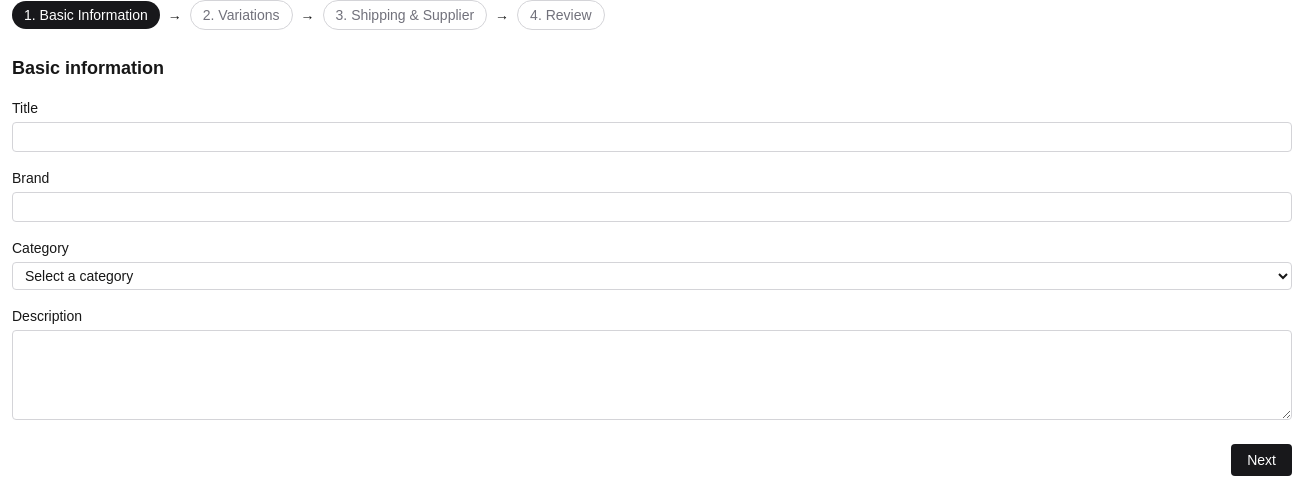
Test case: VariationsStep › rejects an SKU that doesn't match SKU-[A-Z]{3}-[0-9]{4}
Type "Wireless Mouse" into the field labelled "Title".
click(652, 137); type("Wireless Mouse")  # box [12,122,1292,152]
Type "Acme" into the field labelled "Brand".
click(652, 207); type("Acme")  # box [12,192,1292,222]
Select "Beauty" in the dropdown labelled "Category" at x=652, y=276, box [12,262,1292,290]
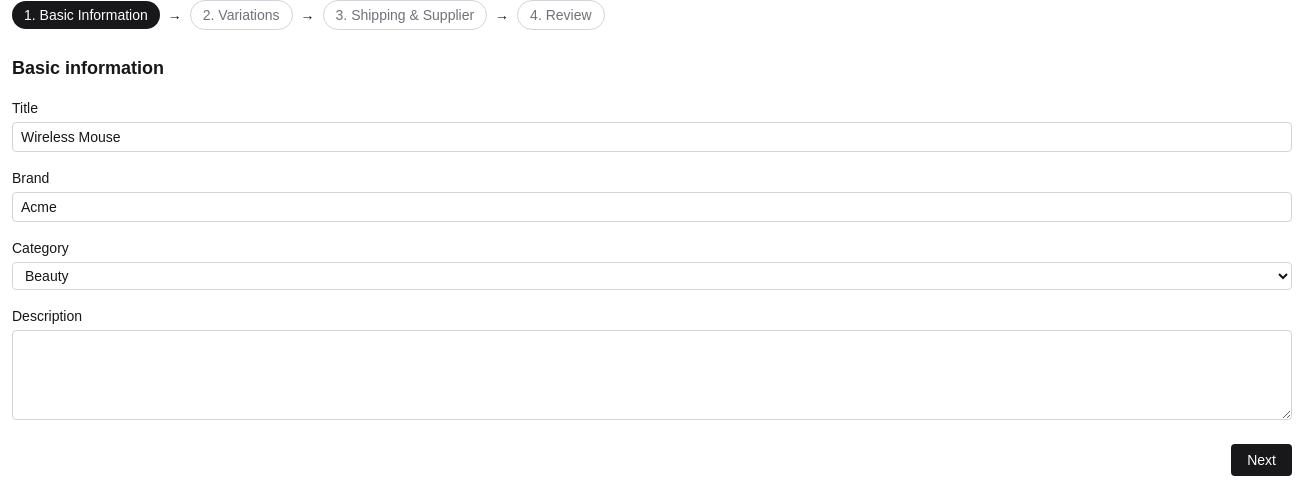
Type "A reliable wireless mouse with an ergonomic design and long battery life." into the text box labelled "Description".
click(652, 375); type("A reliable wireless mouse with an ergonomic design and long battery life.")  # box [12,330,1292,420]
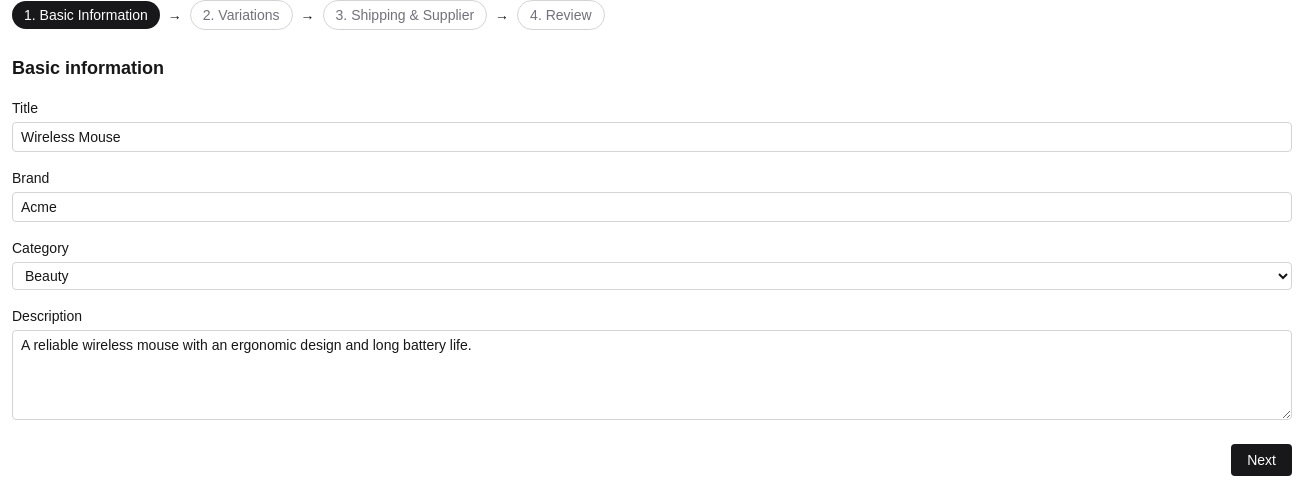
Click the button "Next".
click(1262, 460)  # box [1231,444,1292,476]
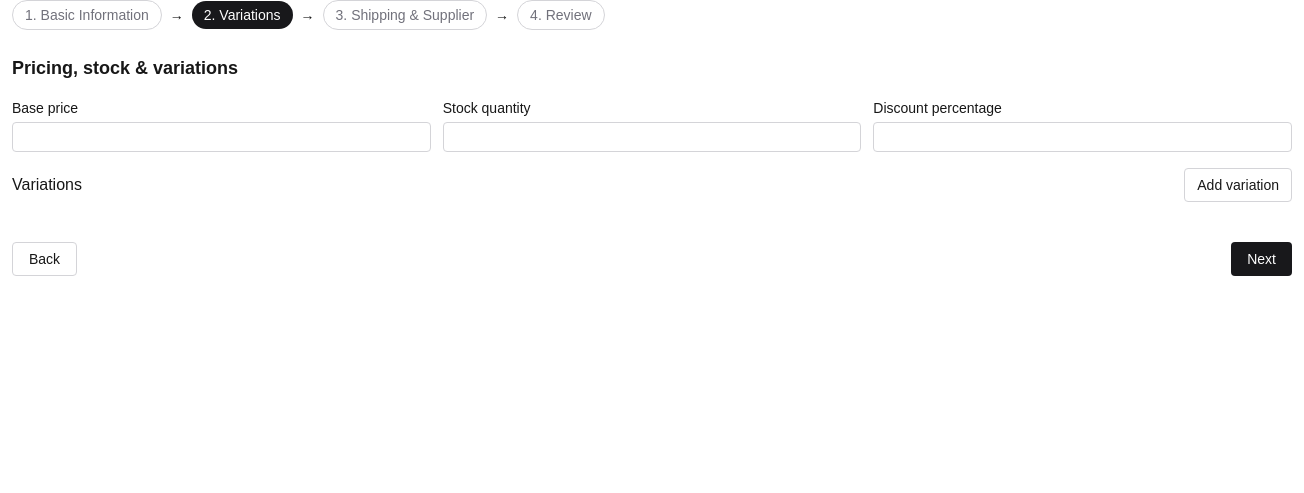
Now the heading "Pricing, stock & variations" is shown, box [12,58,238,78]
Click the button "Add variation".
click(1238, 185)  # box [1184,168,1292,202]
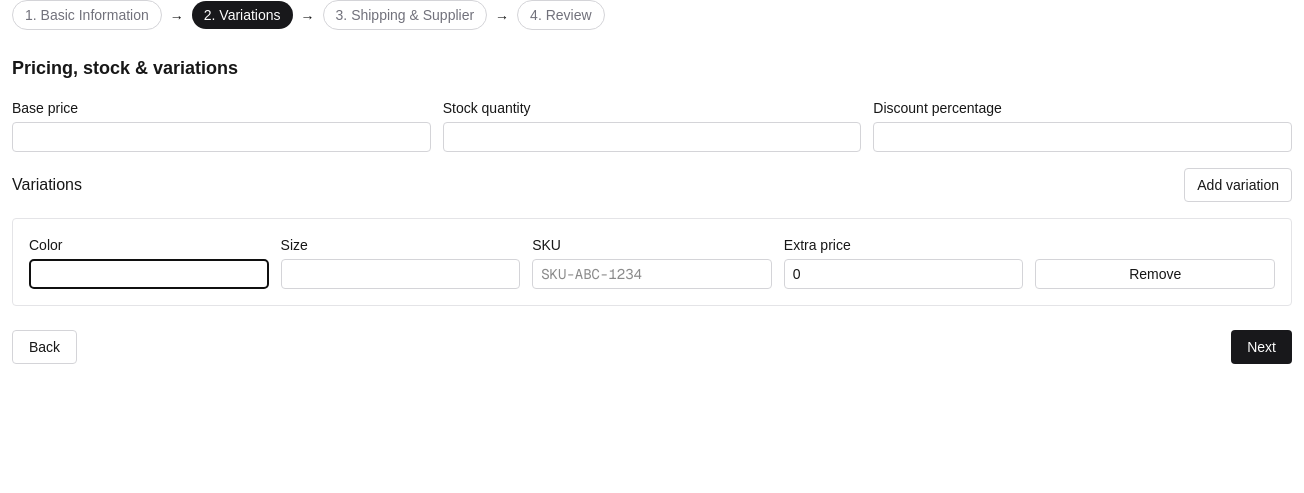
Type "not-a-sku" into the field with placeholder "SKU-ABC-1234".
click(652, 274); type("not-a-sku")  # box [532,259,772,289]
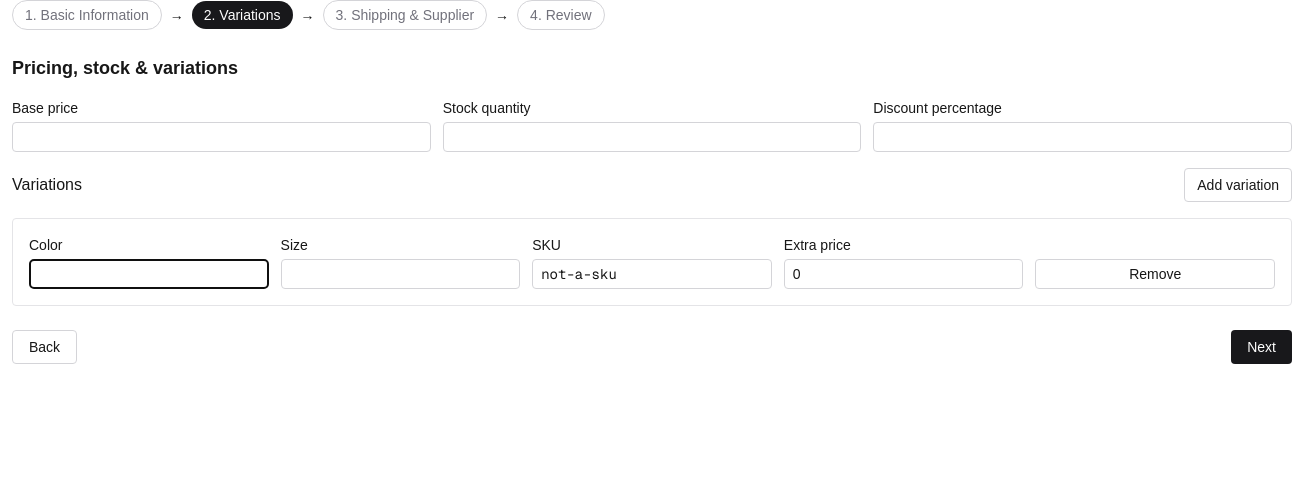
Leave the field with placeholder "SKU-ABC-1234", box [532,259,772,289]
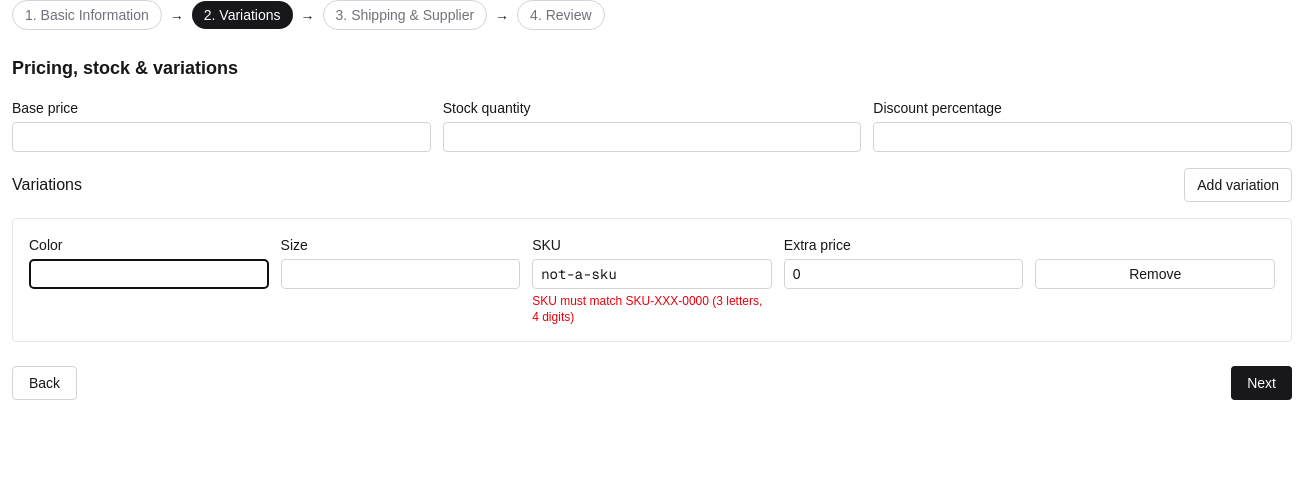
Now the text "SKU must match SKU-XXX-0000 (3 letters, 4 digits)" is shown, box [532,293,772,325]
